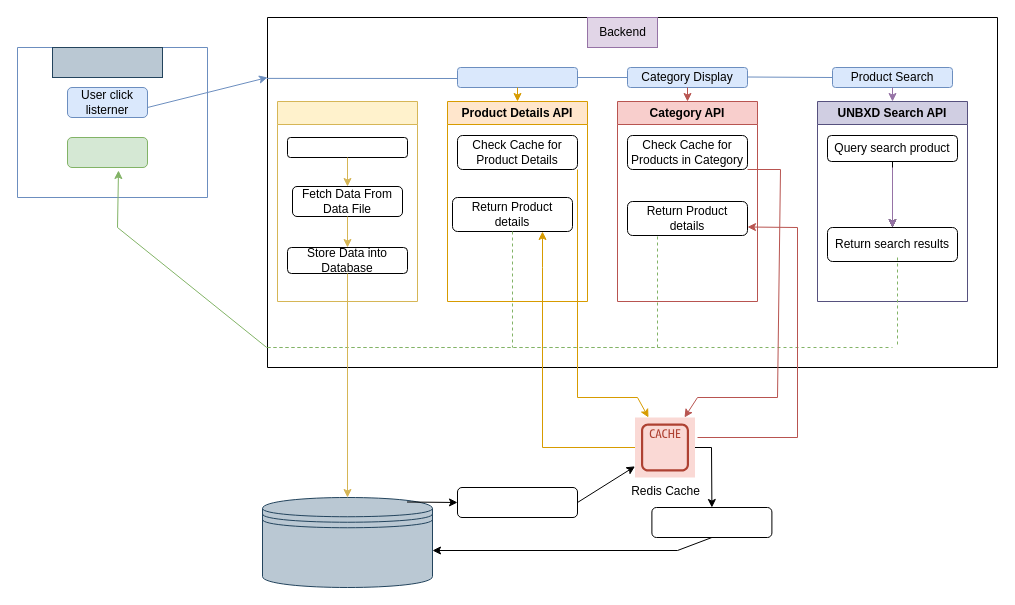
Some shapes in this 1015 by 605 pixel diagram are drawn without their labels. The shapes that lost their labels are listed below. From the top down, each one's box as (x1, y1, x2, y2) in pixels, then its label:
(52, 46, 162, 78): User Interface
(456, 66, 578, 88): Product Information
(66, 136, 148, 168): Output
(286, 136, 408, 158): Curl Command
(276, 100, 418, 302): Data Ingestion API
(456, 486, 578, 518): Cache the retrieved data
(651, 506, 772, 538): If required data is not cached, search DB
(262, 496, 432, 588): PostgreSQL DB
